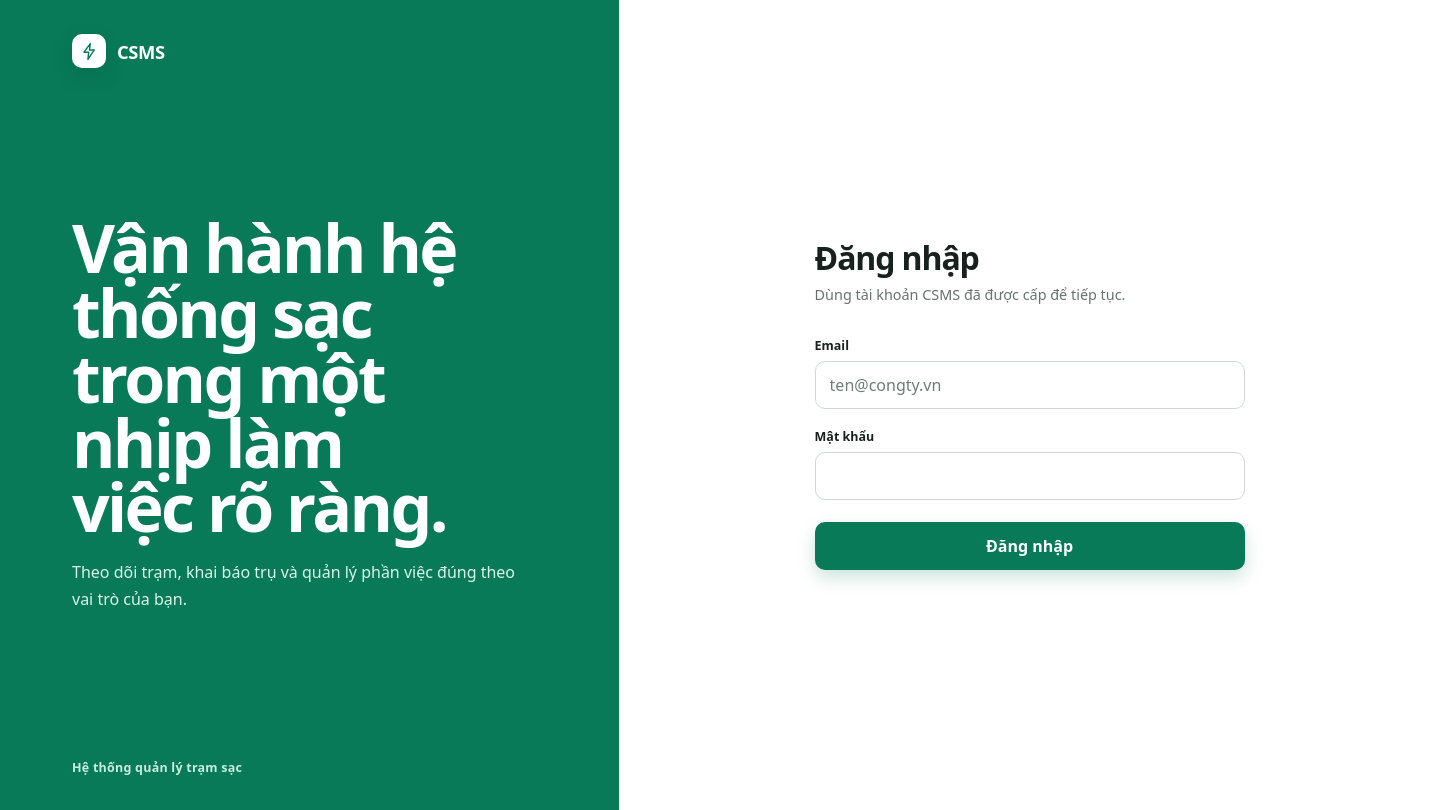
Test case: LoginPage › explains the temporary lock without exposing account details
Type "owner@example.com" into the field labelled "Email". click: (1030, 385)
box: [815,361,1245,409]
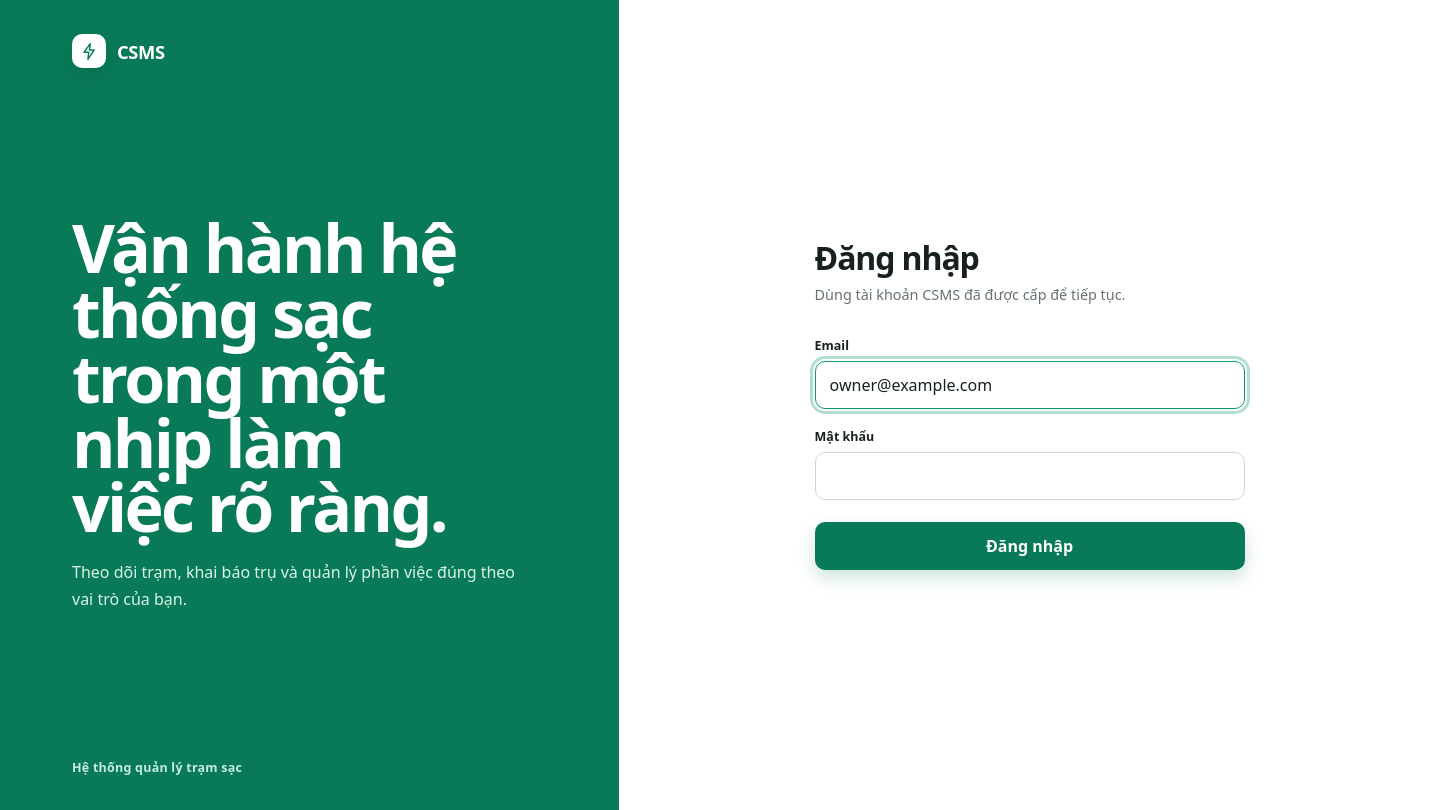
Type "mat-khau-dung" into the password field labelled "Mật khẩu". click: (1030, 476)
box: [815,452,1245,500]
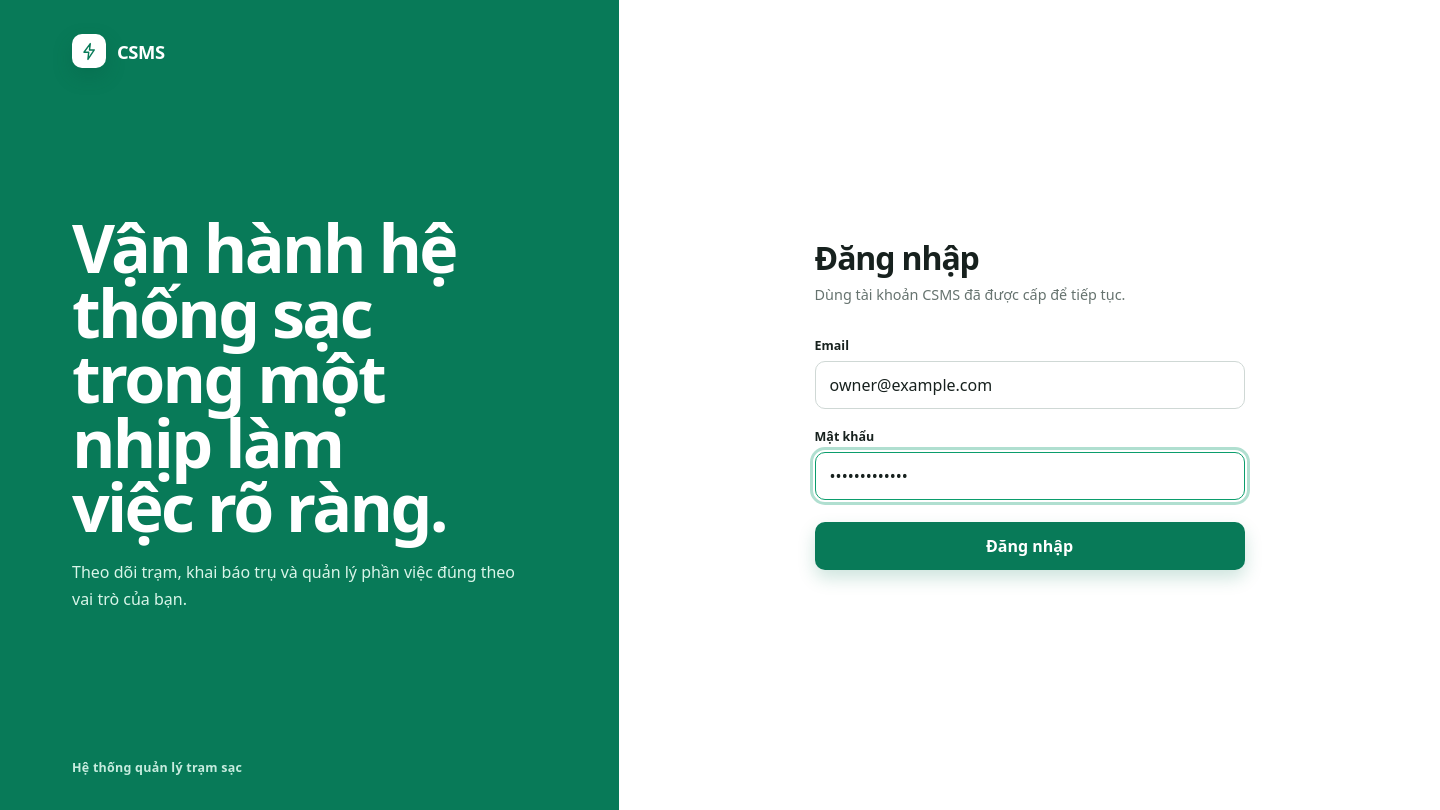
Click the button "Đăng nhập". click: (1030, 546)
box: [815,522,1245,570]
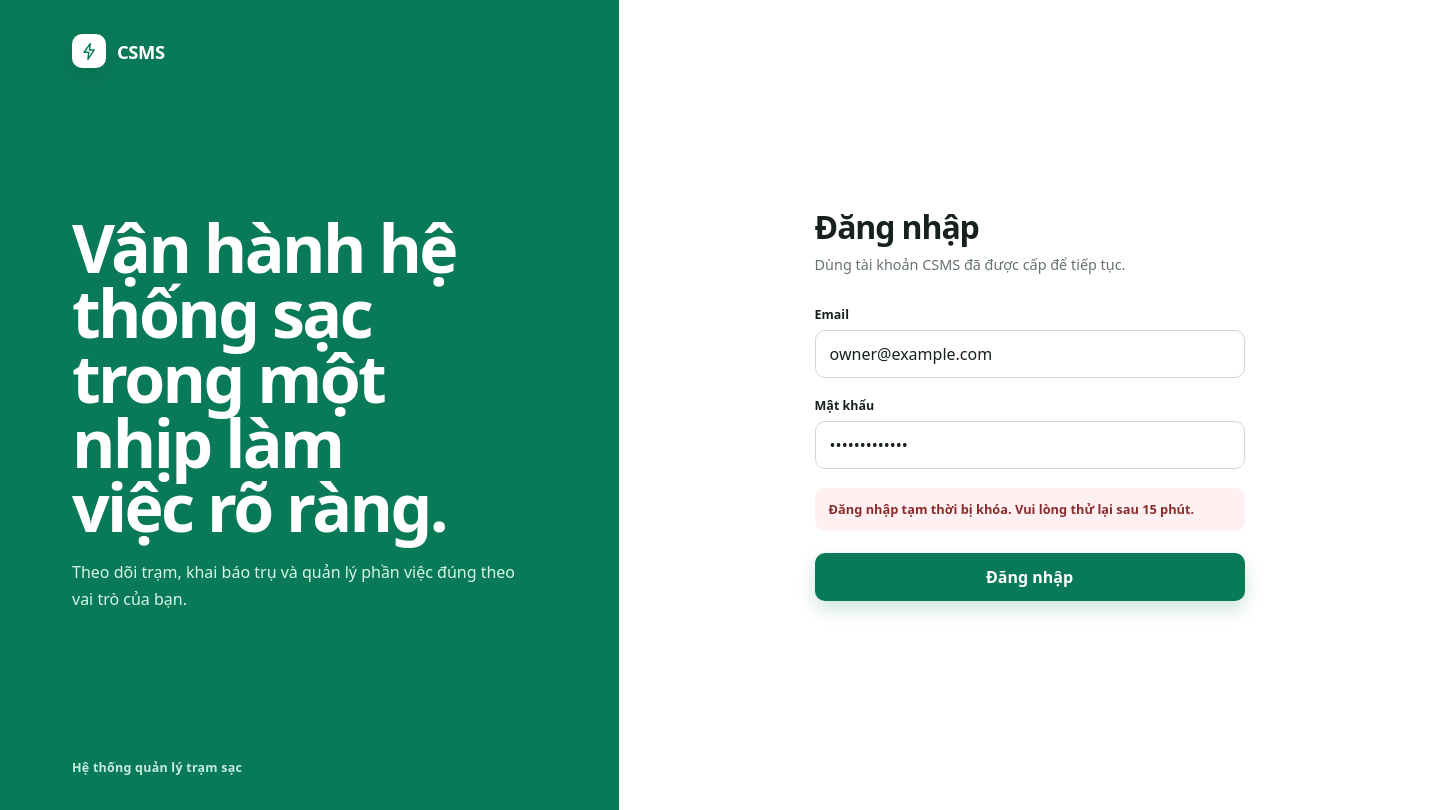
Result: the message reads "Đăng nhập tạm thời bị khóa. Vui lòng thử lại sau 15 phút." at [829,500,1194,518]
